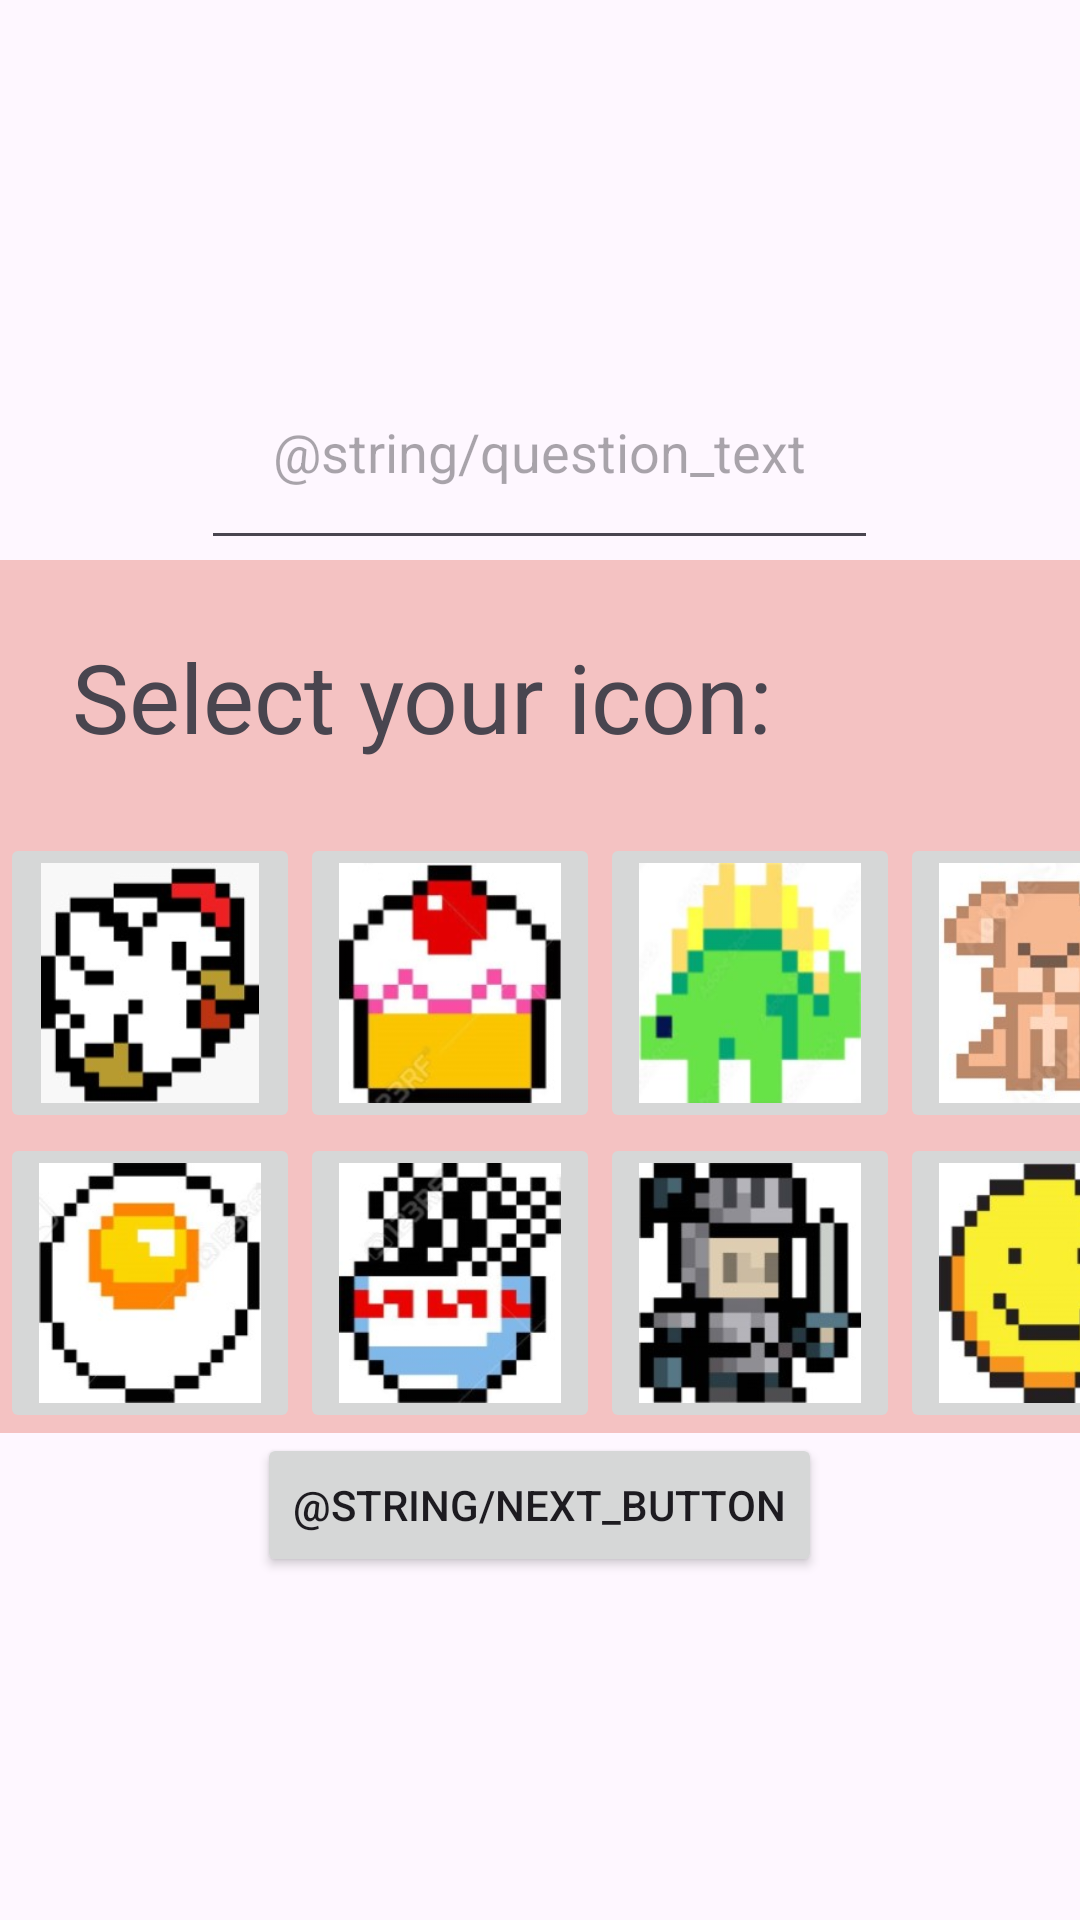

Screen size 1080 x 1920. Icon name, then its box in pixels as {"left": x1, "top": y1, "right": x2, "bottom": y2}:
chicken: {"left": 12, "top": 851, "right": 288, "bottom": 1115}
cupcake: {"left": 312, "top": 851, "right": 588, "bottom": 1115}
dinosaur: {"left": 612, "top": 851, "right": 888, "bottom": 1115}
egg: {"left": 12, "top": 1151, "right": 288, "bottom": 1415}
knight: {"left": 612, "top": 1151, "right": 888, "bottom": 1415}
